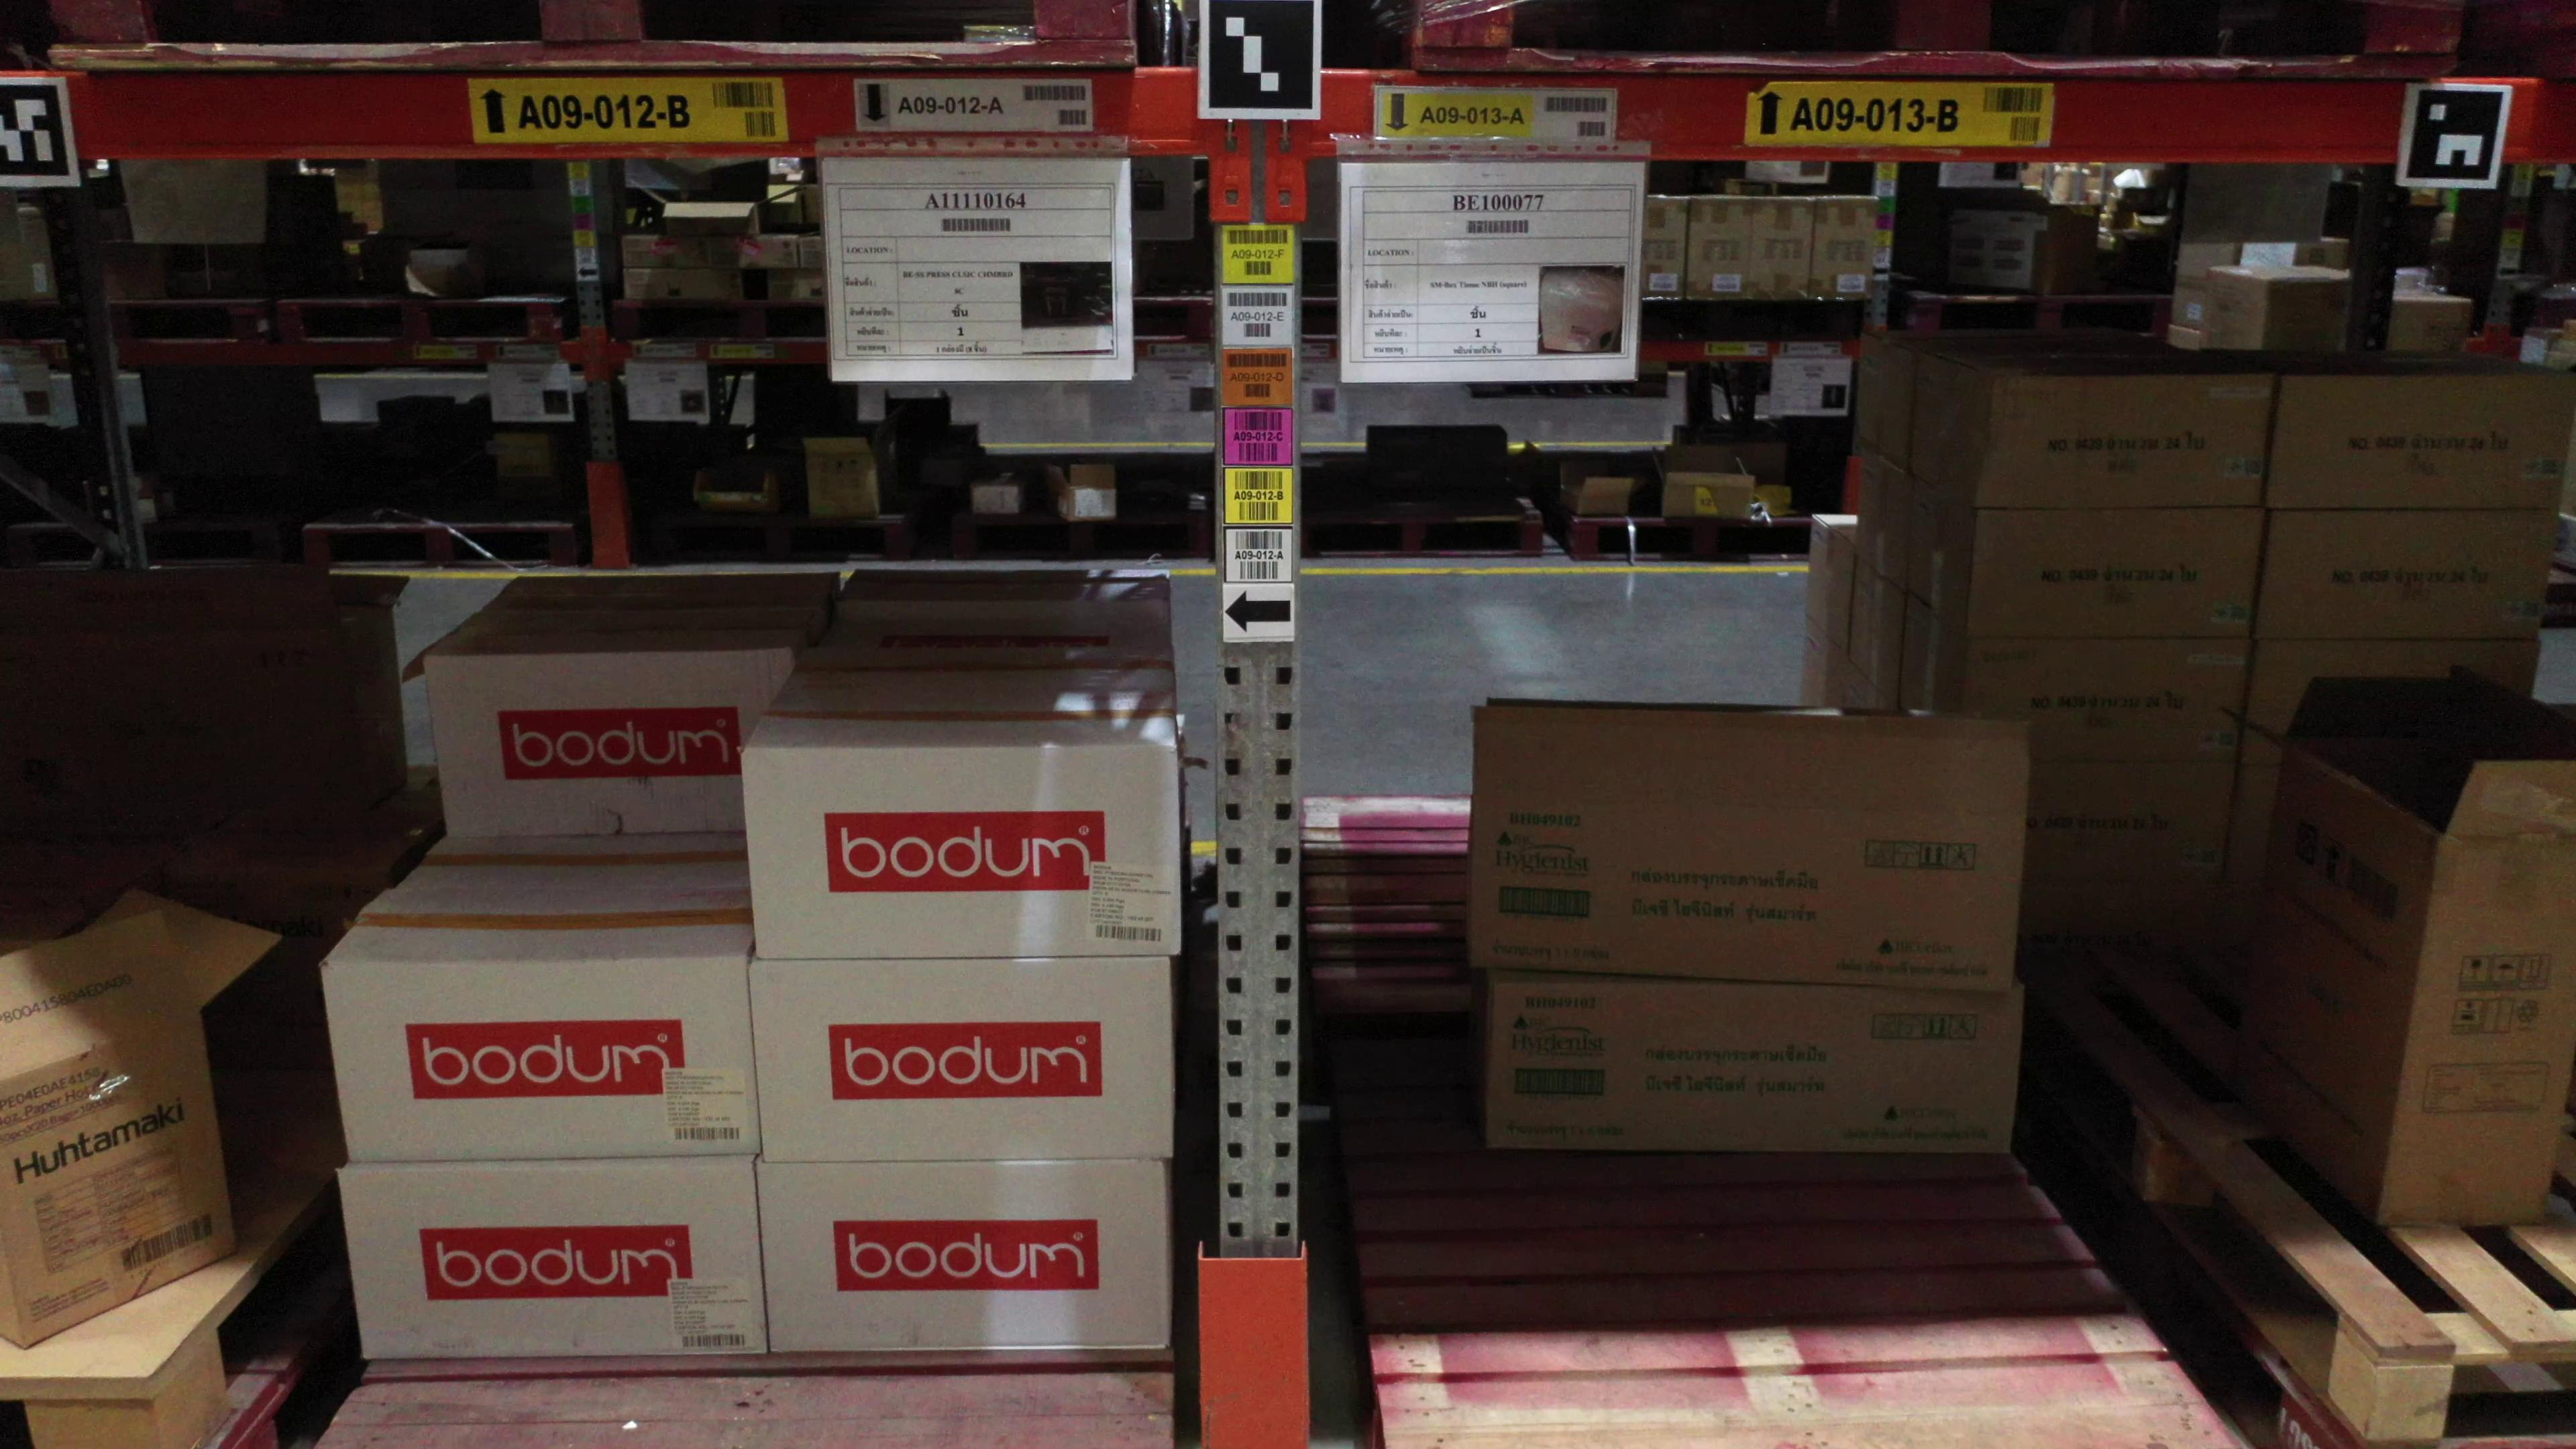-: (1467, 796, 2028, 998), (1484, 973, 2026, 1154), (743, 748, 1180, 959), (324, 957, 768, 1161), (336, 1159, 770, 1362), (752, 955, 1175, 1162), (0, 1016, 239, 1353), (755, 1159, 1169, 1353), (2380, 832, 2576, 1231), (421, 649, 798, 840)
box: (2268, 375, 2576, 515), (2252, 506, 2557, 642), (1966, 502, 2265, 639), (1976, 375, 2272, 510), (1959, 637, 2256, 770), (2026, 764, 2235, 883)
